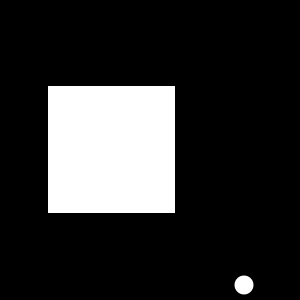circle: (48, 86, 175, 213)
rectangle: (235, 276, 254, 294)
triangle: (116, 145, 159, 188)
